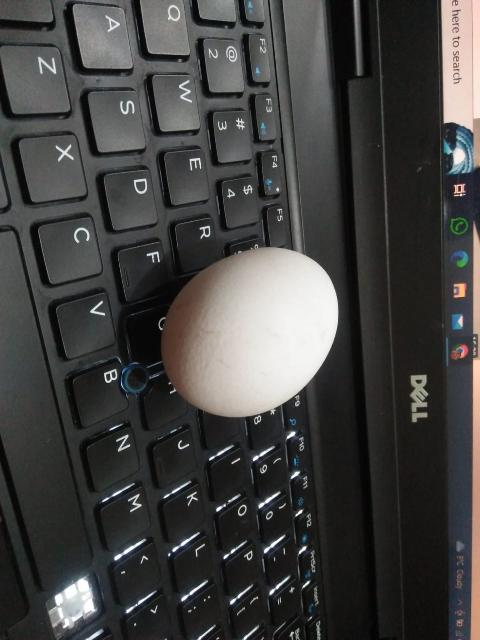Sano: (161, 247, 341, 418)
